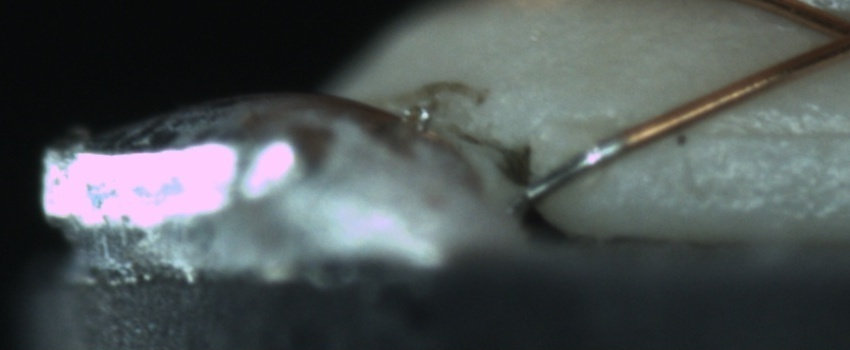CL: (803, 4, 850, 65)
DL: (679, 99, 849, 164)
TS: (527, 138, 628, 202)
TTCW: (515, 124, 642, 206)
